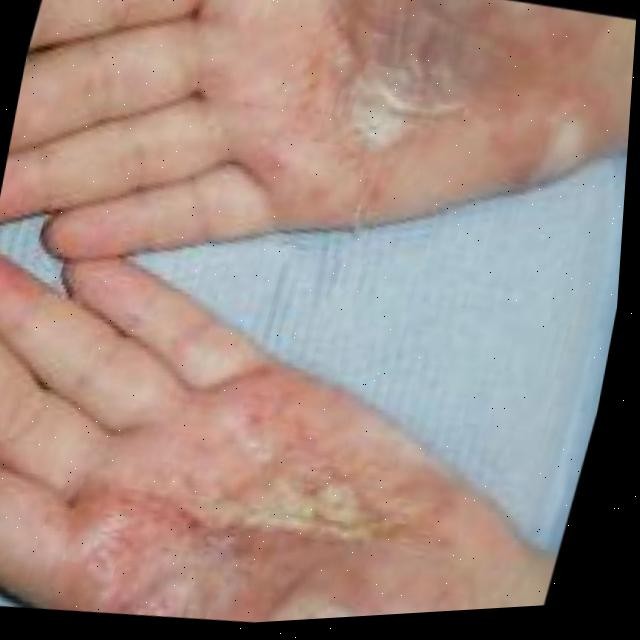Eczema: (45, 322, 470, 635), (269, 0, 615, 210)
